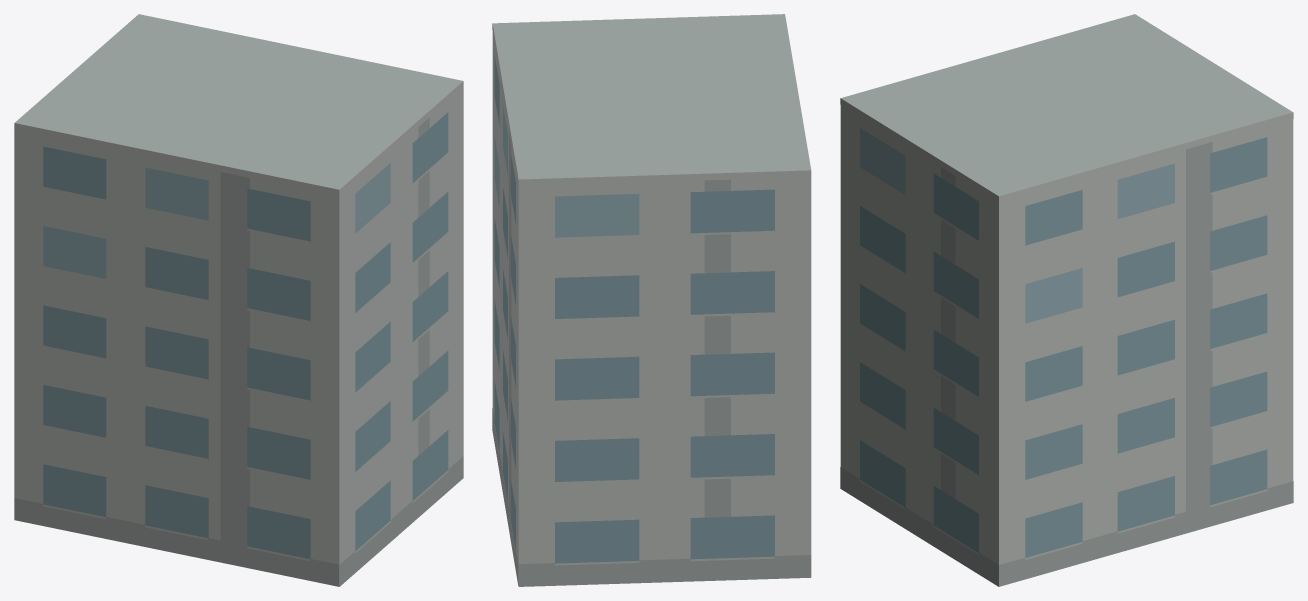
The model's file is survey-upis-32881690.glb.
The picture shows the model from 3 angles, left to right: view 1: azimuth 30°, elevation 25°; view 2: azimuth 150°, elevation 25°; view 3: azimuth 270°, elevation 25°; orthographic projection. The views are drawn at different scales.
Visible parts, largest first — view 1: survey-upis-32881690.tmp; view 2: survey-upis-32881690.tmp; view 3: survey-upis-32881690.tmp.
Boxes of the visible parts, x1=… form: survey-upis-32881690.tmp: x1=14, y1=14, x2=463, y2=586; survey-upis-32881690.tmp: x1=492, y1=14, x2=811, y2=586; survey-upis-32881690.tmp: x1=840, y1=14, x2=1293, y2=586.
Size of the model in its own units: 14.63 by 14.6 by 15.35.
